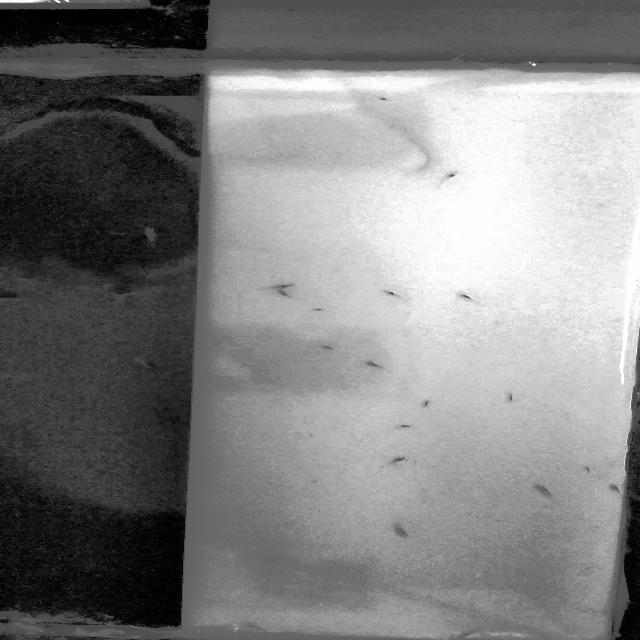shrimp: (358, 356, 388, 374), (268, 287, 297, 305), (388, 524, 418, 540), (239, 620, 274, 633), (451, 292, 481, 306), (498, 388, 528, 402), (438, 170, 471, 182), (530, 479, 552, 497), (605, 480, 627, 498), (416, 396, 439, 413), (374, 93, 404, 106), (315, 341, 343, 354), (267, 278, 297, 290), (452, 627, 484, 638), (389, 453, 410, 469), (379, 290, 414, 299), (396, 419, 422, 430), (307, 306, 344, 313), (582, 464, 596, 479)
